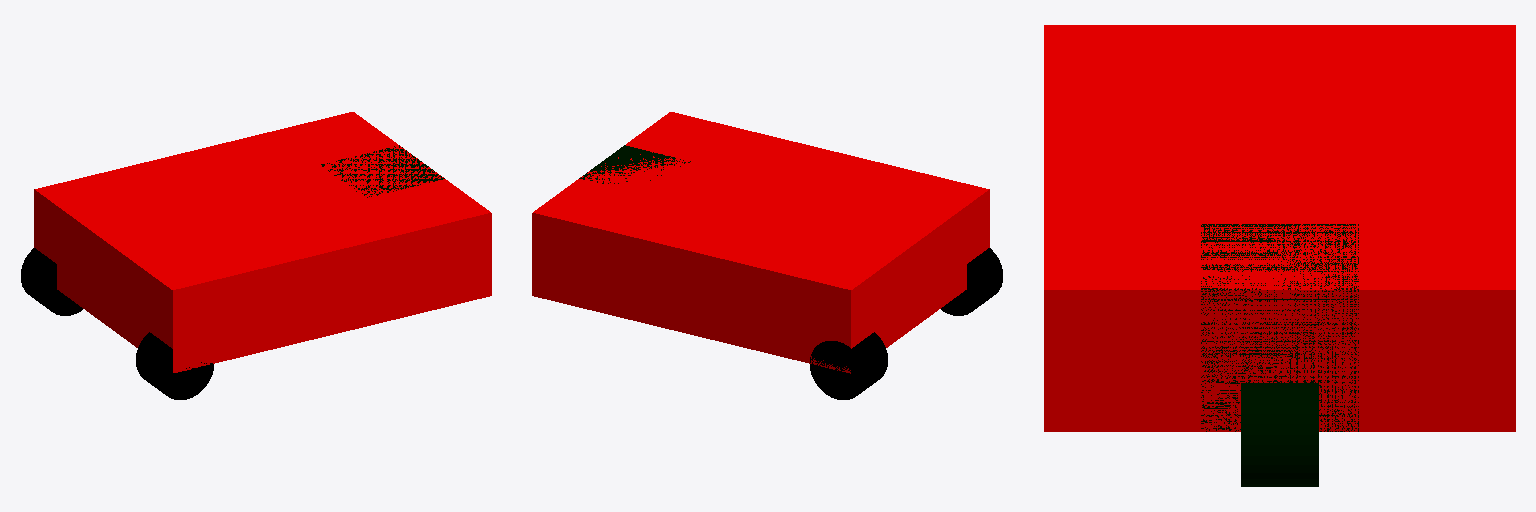
The robot description file, URDF, robot "custom_robot_1":
<?xml version="1.0"?>
<robot name="custom_robot_1">
    <link name="base_link">
        <visual>
            <geometry>
                <box size="0.4 0.3 0.1"/>
            </geometry>
            <material name="red">
                <color rgba="1 0.0 0.0 1"/>
            </material>
        </visual>

        <collision>
            <geometry>
                <box size="0.4 0.3 0.1"/>
            </geometry>
        </collision>
        
        <inertial>
            <mass value="1.0"/>
            <inertia ixx="0.015" ixy="0" ixz="0" iyy="0.0375" iyz="0.0" izz="0.0375"/>
        </inertial>
    </link>
    
    <link name="front_caster_of_wheel">
        <visual>
            <geometry>
                <box size="0.1 0.1 0.1"/>
            </geometry>
            <material name="green">
                <color rgba="0.0 0.1 0.0 1"/>
            </material>
        </visual>
        
        <collision>
            <geometry>
                <box size="0.1 0.1 0.1"/>
            </geometry>
        </collision>
        
        <inertial>
            <mass value="0.1"/>
            <inertia ixx="0.00083" ixy="0" ixz="0" iyy="0.00083" iyz="0.0" izz="0.000167"/>
        </inertial>
    </link>
    
    <joint name="front_caster_of_wheel_joint" type="fixed"> <!-- continuous -->
        <axis xyz="0.0 0.0 1"/>
        <parent link="base_link"/>
        <child link="front_caster_of_wheel"/>
        <origin xyz="0.15 0.0 0.0" rpy="0.0 0.0 0.0"/>
    </joint>
    
    <link name="front_wheel">
        <visual>
            <geometry>
                <cylinder radius="0.035" length="0.05"/>
            </geometry>
            <material name="black">
                <color rgba="0.0 0.1 0.0 1"/>
            </material>
        </visual>
        
        <collision>
            <geometry>
                <cylinder radius="0.035" length="0.05"/>
            </geometry>
        </collision>
        
        <inertial>
            <mass value="0.1"/>
            <inertia ixx="5.1458e-5" ixy="0" ixz="0" iyy="5.1458e-5" iyz="0.0" izz="6.125e-5"/>
        </inertial>
    </link>

    <joint name="front_wheel_joint" type="fixed">  <!-- continuous -->
        <axis xyz="0.0 0.0 1"/>
        <parent link="front_caster_of_wheel"/>
        <child link="front_wheel"/>
        <origin xyz="0.05 0.0 -0.05" rpy="-1.5708 0.0 0.0"/>
    </joint>
    
    <link name="right_wheel">
        <visual>
            <geometry>
                <cylinder radius="0.035" length="0.05"/>
            </geometry>
            <material name="black">
                <color rgba="0.0 0.0 0.0 1"/>
            </material>
        </visual>
        
        <collision>
            <geometry>
                <cylinder radius="0.035" length="0.05"/>
            </geometry>
        </collision>
        
        <inertial>
            <mass value="0.1"/>
            <inertia ixx="5.1458e-5" ixy="0" ixz="0" iyy="5.1458e-5" iyz="0.0" izz="6.125e-5"/> 
        </inertial>
    </link>
    
    <joint name="right_wheel_joint" type="continuous">
        <axis xyz="0.0 0.0 1"/>
        <parent link="base_link"/>
        <child link="right_wheel"/>
        <origin xyz="-0.1825 -0.125 -0.05" rpy="-1.5708 0.0 0.0"/>
        <!-- x = -0.2825 -->
    </joint>
    
    <link name="left_wheel">
        <visual>
            <geometry>
                <cylinder radius="0.035" length="0.05"/>
            </geometry>
            <material name="black">
                <color rgba="0.0 0.0 0.0 1"/>
            </material>
        </visual>

        <collision>
            <geometry>
                <cylinder radius="0.035" length="0.05"/>
            </geometry>
        </collision>
    
        <inertial>
            <mass value="0.1"/>
            <inertia ixx="5.1458e-5" ixy="0" ixz="0" iyy="5.1458e-5" iyz="0.0" izz="6.125e-5"/>
        </inertial>
    </link>

    <joint name="left_wheel_joint" type="continuous">
        <axis xyz="0.0 0.0 1"/>
        <parent link="base_link"/>
        <child link="left_wheel"/>
        <origin xyz="-0.1825 0.125 -0.05" rpy="-1.5708 0.0 0.0"/>
        <!-- x = -0.2825 -->
    </joint>

    <!-- <link name="laser_scanner">
        <visual>
            <geometry>
                <box size="0.05 0.05 0.05"/>
            </geometry>
        </visual>
        
        <collision>
            <geometry>
                <box size="0.1 0.1 0.1"/>
            </geometry>
        </collision>

        <inertial>
            <mass value="1e-3"/>
            <inertia ixx="1e-5" ixy="0" ixz="0.0" iyy="1e-5" iyz="0.0" izz="1e-5"/>
        </inertial>
    </link> -->

    <!-- <joint name="laser_joint" type="fixed">
        <axis xyz="0.0 0.0 1.0"/>
        <origin xyz="-0.2 0.0 0.075" rpy="0.0 0.0 0.0"/>
        <parent link="base_link"/>
        <child link="laser_scanner"/> -->
        <!-- <axis xyz="0.0 0.0 0.0"/>
        <limit lower="0.0" upper="0.0" effort="0.0" velocity="0.0"/> -->
    <!-- </joint> -->


    <!-- <transmission name="laser_joint_trans" type="SimpleTransmission">
        <type>transmission_interface/SimpleTransmission</type>
        <actuator name="laser_joint_motor">
            <hardwareInterface>hardware_interface/EffortJointInterface</hardwareInterface>
            <mechanicalReduction>1</mechanicalReduction>
        </actuator>
        <joint name="laser_joint">
            <hardwareInterface>hardware_interface/EffortJointInterface</hardwareInterface>
        </joint>
    </transmission> -->


    <gazebo>
        <plugin name="differential_drive_controller"
            filename="libgazebo_ros_diff_drive.so">
            <legacyMode>false</legacyMode>
            <alwaysOn>true</alwaysOn>
            <updateRate>20</updateRate>
            <leftJoint>left_wheel_joint</leftJoint>
            <rightJoint>right_wheel_joint</rightJoint>
            <robotBaseFrame>base_link</robotBaseFrame>
            <wheelSeparation>0.25</wheelSeparation>
            <wheelDiameter>0.07</wheelDiameter>
            <wheelTorque>0.1</wheelTorque>
            <commandTopic>cmd_vel</commandTopic>
            <odometryTopic>odom</odometryTopic>
            <odometryFrame>odom</odometryFrame>
            <publishWheelJointState>true</publishWheelJointState>
            <publishOdomTF>true</publishOdomTF>
            <!-- <wheelAcceleration>0.1</wheelAcceleration> -->
            <!-- <publishWheelTF>true</publishWheelTF> -->
        </plugin>
    </gazebo>
    <gazebo reference="base_link">
        <sensor type="ray" name="head_hokuyo_sensor">
            <pose>-0.18 0 0 0 0 0</pose>
            <visualize>true</visualize>
            <update_rate>40</update_rate>
            <ray>
                <scan>
                    <horizontal>
                        <samples>2</samples>
                        <resolution>1</resolution>
                        <min_angle>-0.31</min_angle>
                        <max_angle>0.31</max_angle>
                    </horizontal>
                </scan>
                <range>
                    <min>0.5</min>
                    <max>1.35</max>
                    <resolution>0.01</resolution>
                    <!-- <resolution>0.003</resolution> -->
                </range>
                <noise>
                    <type>gaussian</type>
                    <mean>0.0</mean>
                    <stddev>0.01</stddev>
                </noise>
            </ray>
            <plugin name="gazebo_ros_head_hokuyo_controller" filename="libgazebo_ros_laser.so">
                <topicName>LaserScan</topicName>
                <frameName>laser_scanner</frameName>
            </plugin>
        </sensor>
    </gazebo>
    <gazebo reference="front_wheel">
        <material>Gazebo/Black</material>
        <mu1>0.0</mu1>
        <mu2>0.0</mu2>
        <selfCollide>false</selfCollide>
    </gazebo>
    <gazebo reference="right_wheel">
        <material>Gazebo/Black</material>
    </gazebo>
    <gazebo reference="left_wheel">
        <material>Gazebo/Black</material>
    </gazebo>
    <gazebo reference="base_link">
        <material>Gazebo/Red</material>
        <mu1>0.01</mu1>
        <mu2>0.01</mu2>
    </gazebo>
    <gazebo>
        <plugin name="gazebo_ros_control" filename="libgazebo_ros_control.so">
            <!-- <robotNamespace>/</robotNamespace> -->
            <controlPeriod>0.001</controlPeriod>
            <legacyModeNS>false</legacyModeNS>
        </plugin>
    </gazebo>
    <gazebo>
        <plugin name="joint_state_publisher"
            filename="libgazebo_ros_joint_state_publisher.so">
            <jointName>left_wheel_joint, right_wheel_joint</jointName> 
            <!-- , laser_joint</jointName>  -->
            <!-- front_caster_of_wheel_joint, front_wheel_joint -->
        </plugin>
    </gazebo>
</robot>

--- Render facts (derived) ---
The picture shows the robot from 3 angles, left to right: view 1: azimuth 30°, elevation 25°; view 2: azimuth 150°, elevation 25°; view 3: azimuth 270°, elevation 25°; orthographic projection.
Robot: custom_robot_1 — 5 links, 4 joints (2 continuous, 2 fixed); root link base_link; default pose: all joints at 0.
Visible links, largest first — view 1: base_link, right_wheel, left_wheel, front_caster_of_wheel; view 2: base_link, left_wheel, right_wheel, front_caster_of_wheel; view 3: base_link, front_wheel, front_caster_of_wheel.
Link boxes in pixels (x1,y1,x2,y2): base_link: [34, 112, 491, 372]; right_wheel: [136, 332, 213, 399]; left_wheel: [21, 248, 82, 315]; front_caster_of_wheel: [321, 145, 444, 197]; base_link: [532, 112, 989, 373]; left_wheel: [810, 332, 887, 399]; right_wheel: [941, 248, 1002, 315]; front_caster_of_wheel: [579, 145, 690, 183]; base_link: [1044, 25, 1515, 431]; front_wheel: [1241, 383, 1318, 486]; front_caster_of_wheel: [1201, 224, 1358, 431].
Size in the robot's own frame: 0.4525 by 0.3 by 0.135 metres.
Geometry: primitives only (box / cylinder / sphere), no mesh files.
